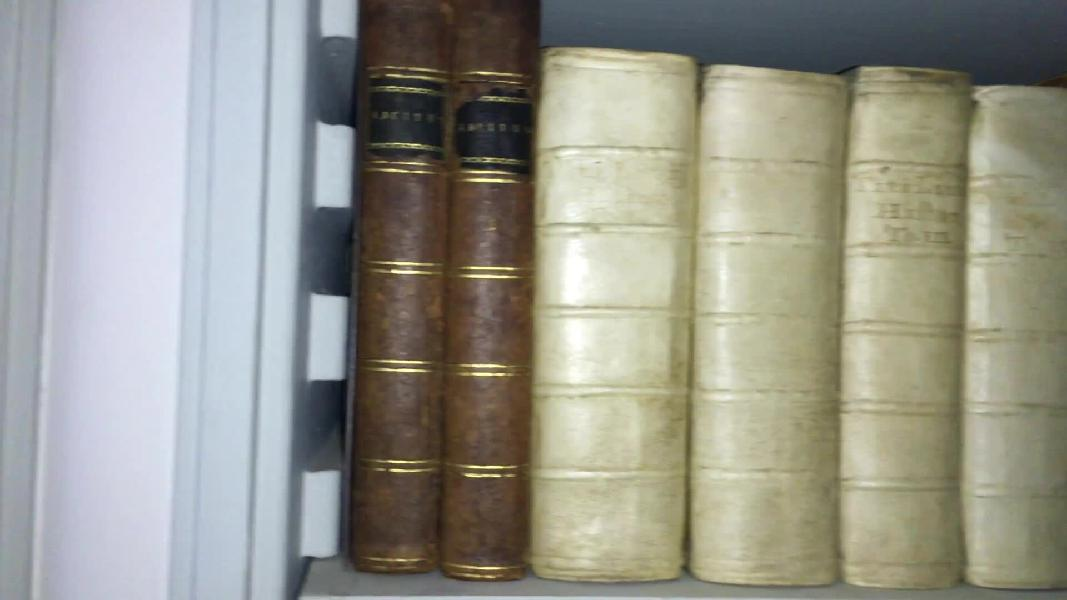Kk4-1_2: (360, 1, 541, 600)
Kk4-3_7: (535, 28, 1067, 600)
